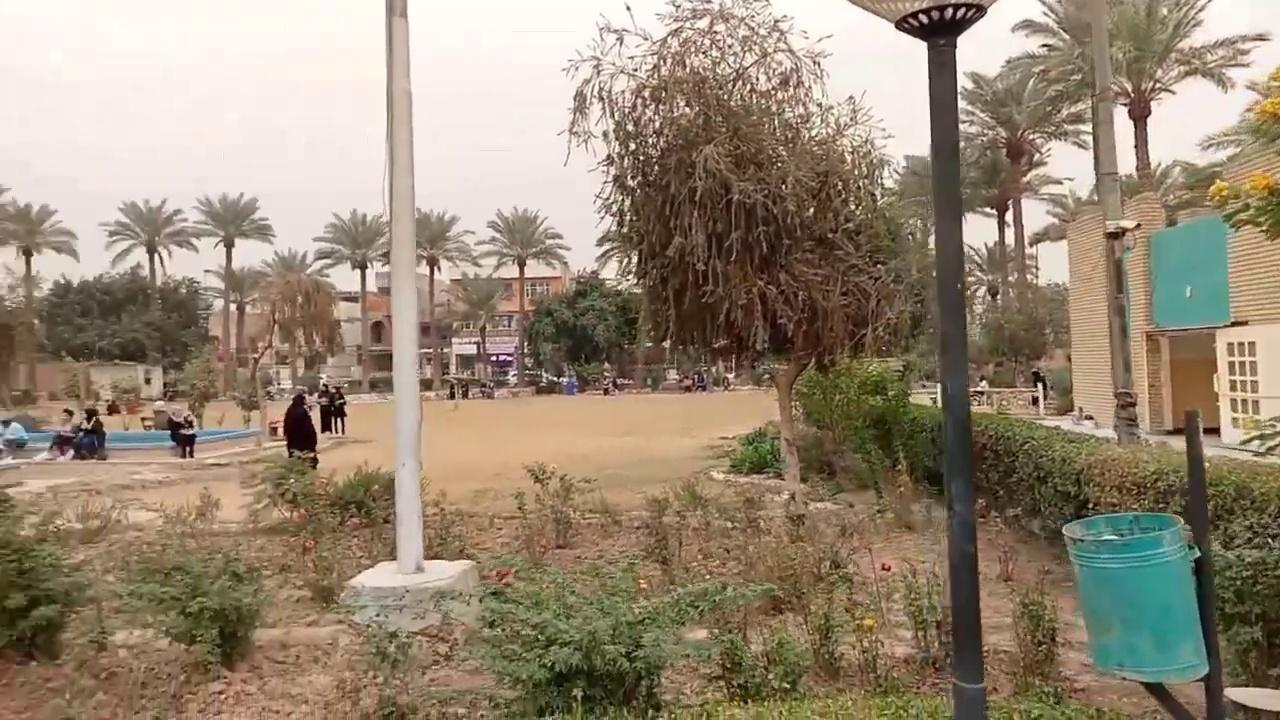person: (283, 393, 318, 469), (74, 407, 106, 460), (51, 408, 77, 460), (316, 383, 334, 434), (177, 411, 196, 458), (330, 385, 347, 435), (1031, 368, 1047, 407), (970, 374, 988, 405), (448, 381, 455, 400)
tree: (557, 0, 918, 535), (1011, 0, 1271, 182), (955, 51, 1091, 386), (98, 196, 199, 393), (184, 190, 275, 390), (474, 204, 571, 386), (383, 205, 476, 388), (0, 195, 79, 400), (1198, 64, 1279, 242), (311, 206, 390, 388), (524, 268, 631, 390), (254, 246, 337, 392), (40, 270, 152, 362), (977, 281, 1051, 387), (142, 274, 206, 388), (448, 270, 510, 383), (203, 263, 268, 368), (38, 271, 83, 359)
